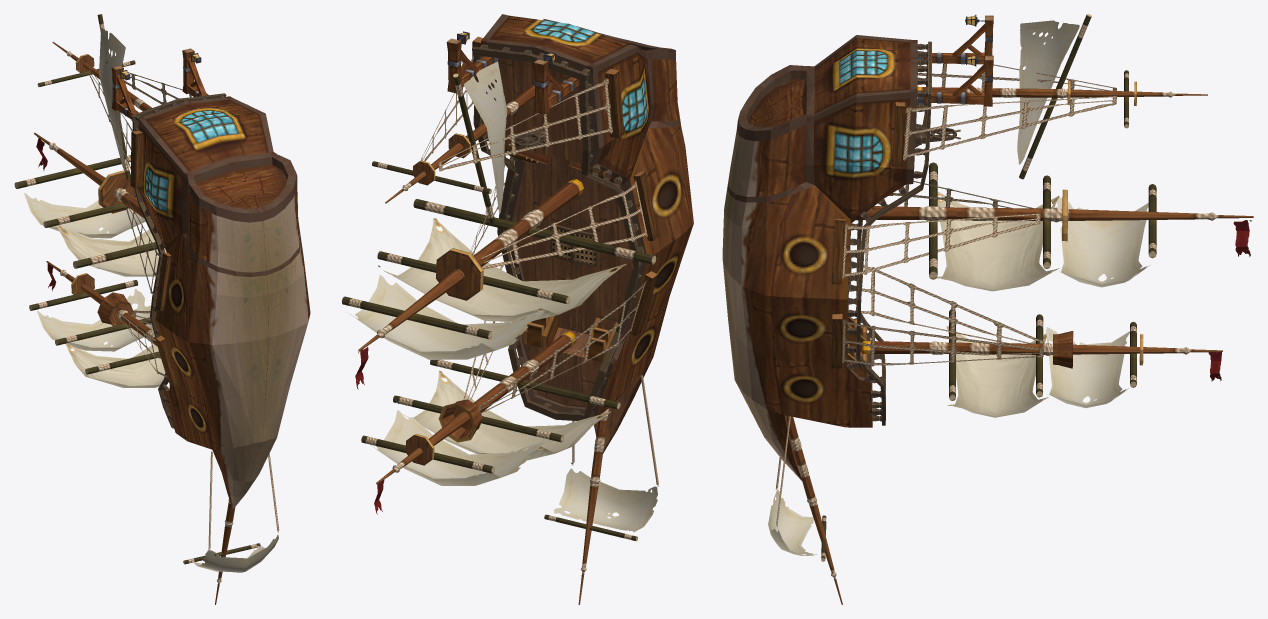
The model's file is ship.dae.
3 views of the same model, side by side, from view 1: azimuth 30°, elevation 25°; view 2: azimuth 150°, elevation 25°; view 3: azimuth 270°, elevation 25° (orthographic). The views are drawn at different scales.
Parts seen in each view (by area): view 1: ship1; view 2: ship1; view 3: ship1.
Boxes of the visible parts, left/top/right/bottom form: ship1: left=14, top=14, right=310, bottom=604; ship1: left=341, top=14, right=693, bottom=604; ship1: left=722, top=14, right=1253, bottom=604.
Size of the model in its own units: 8.28 by 17.17 by 20.91.
Materials: 1 (1 with a texture image).
